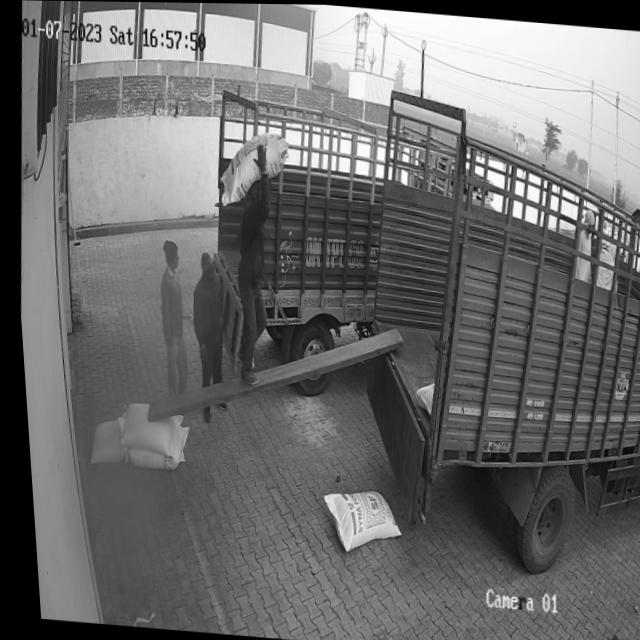sack: (214, 128, 290, 211), (311, 485, 397, 554), (109, 401, 179, 457), (116, 420, 186, 470), (78, 412, 124, 467)
